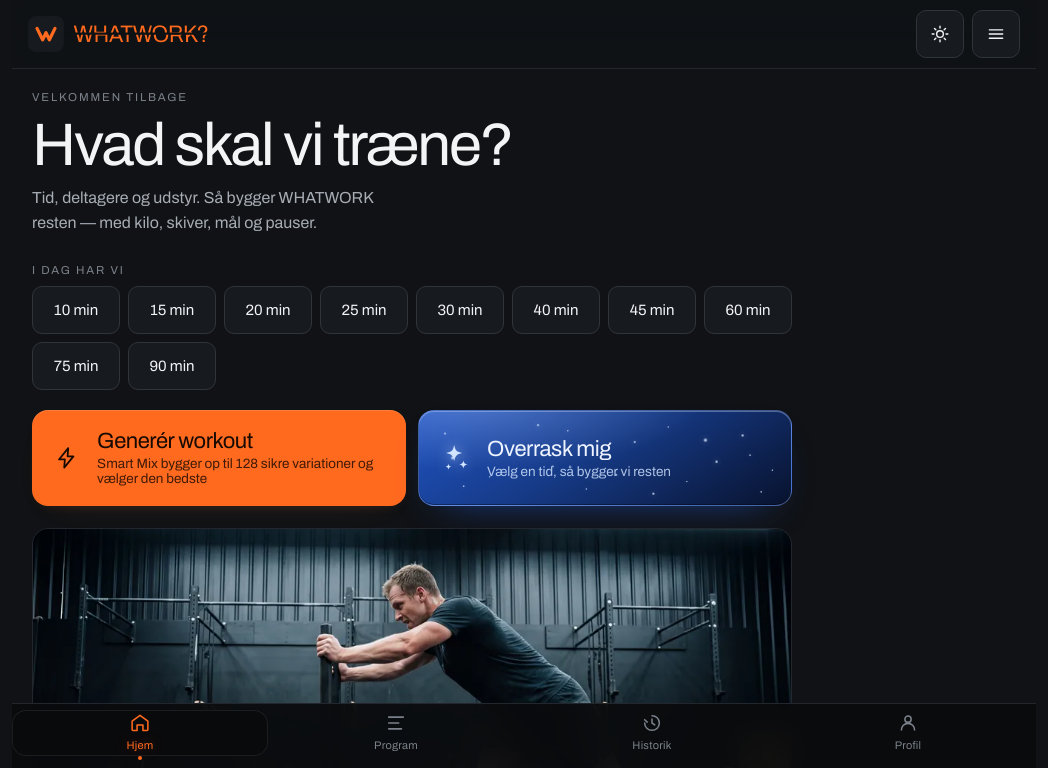
Scenario: WHATWORK — kerneflow › beregner deltagerantallet ud fra fordelingen
Click the button "Generér workout": coordinates (219, 458) [32,410,406,506]
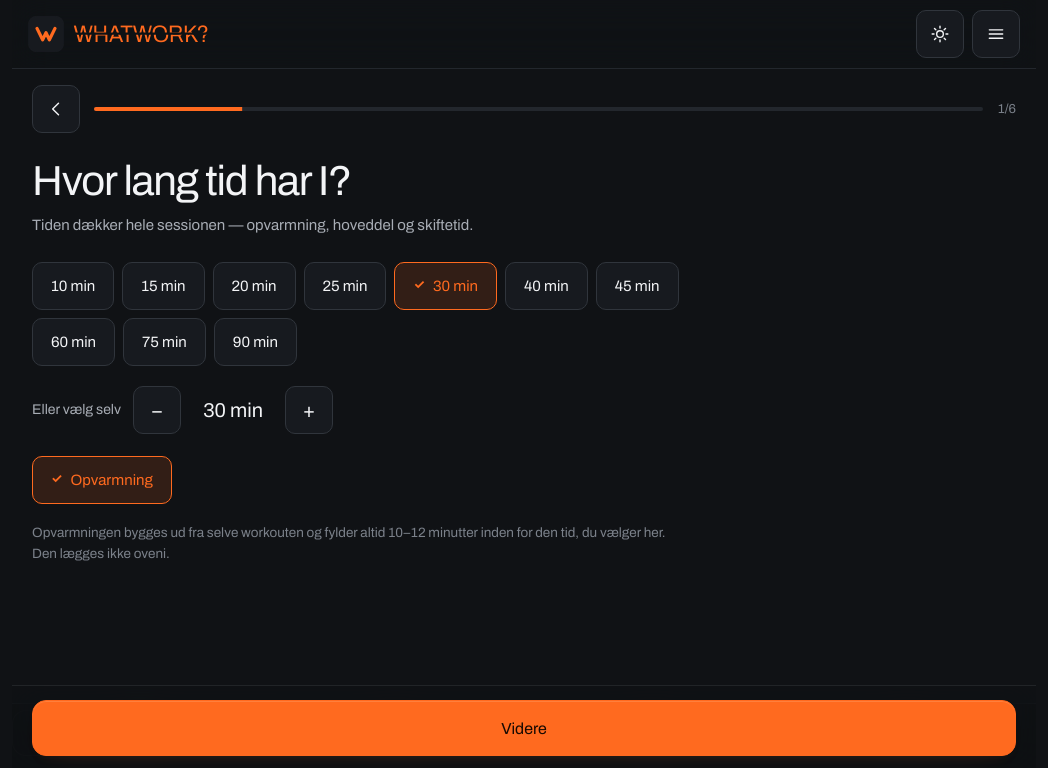
Click the button "Videre": coordinates (524, 728) [32,700,1016,756]
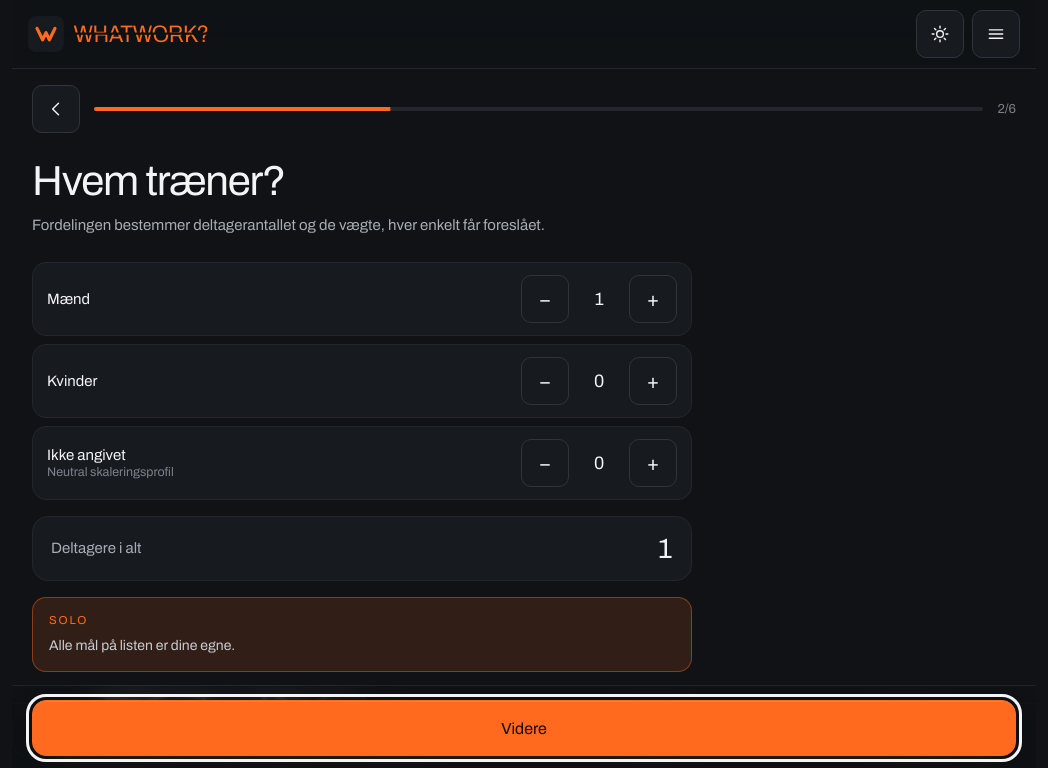
Check: the heading "Hvem træner?" is shown, box [32,158,285,204]
Click the button named "Kvinder: én mere": coordinates (653, 381) [629,357,677,405]
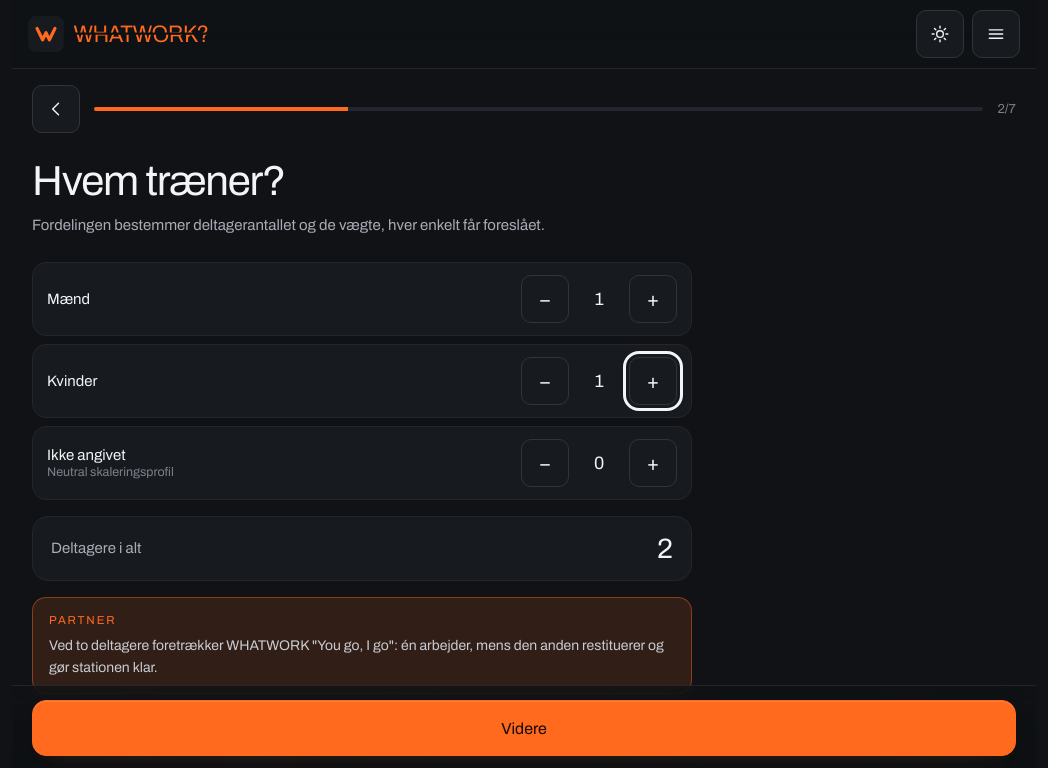
Click the button named "Ikke angivet: én mere": coordinates (653, 463) [629,439,677,487]
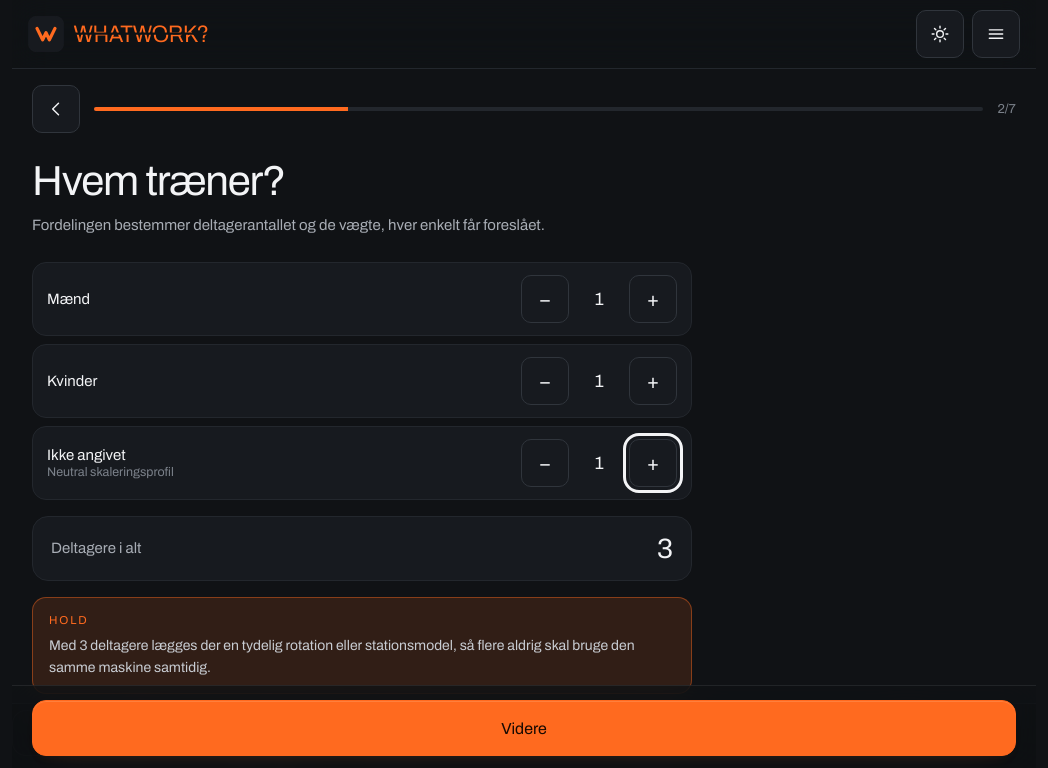
Check: the text "3" is shown, box [657,533,673,564]
